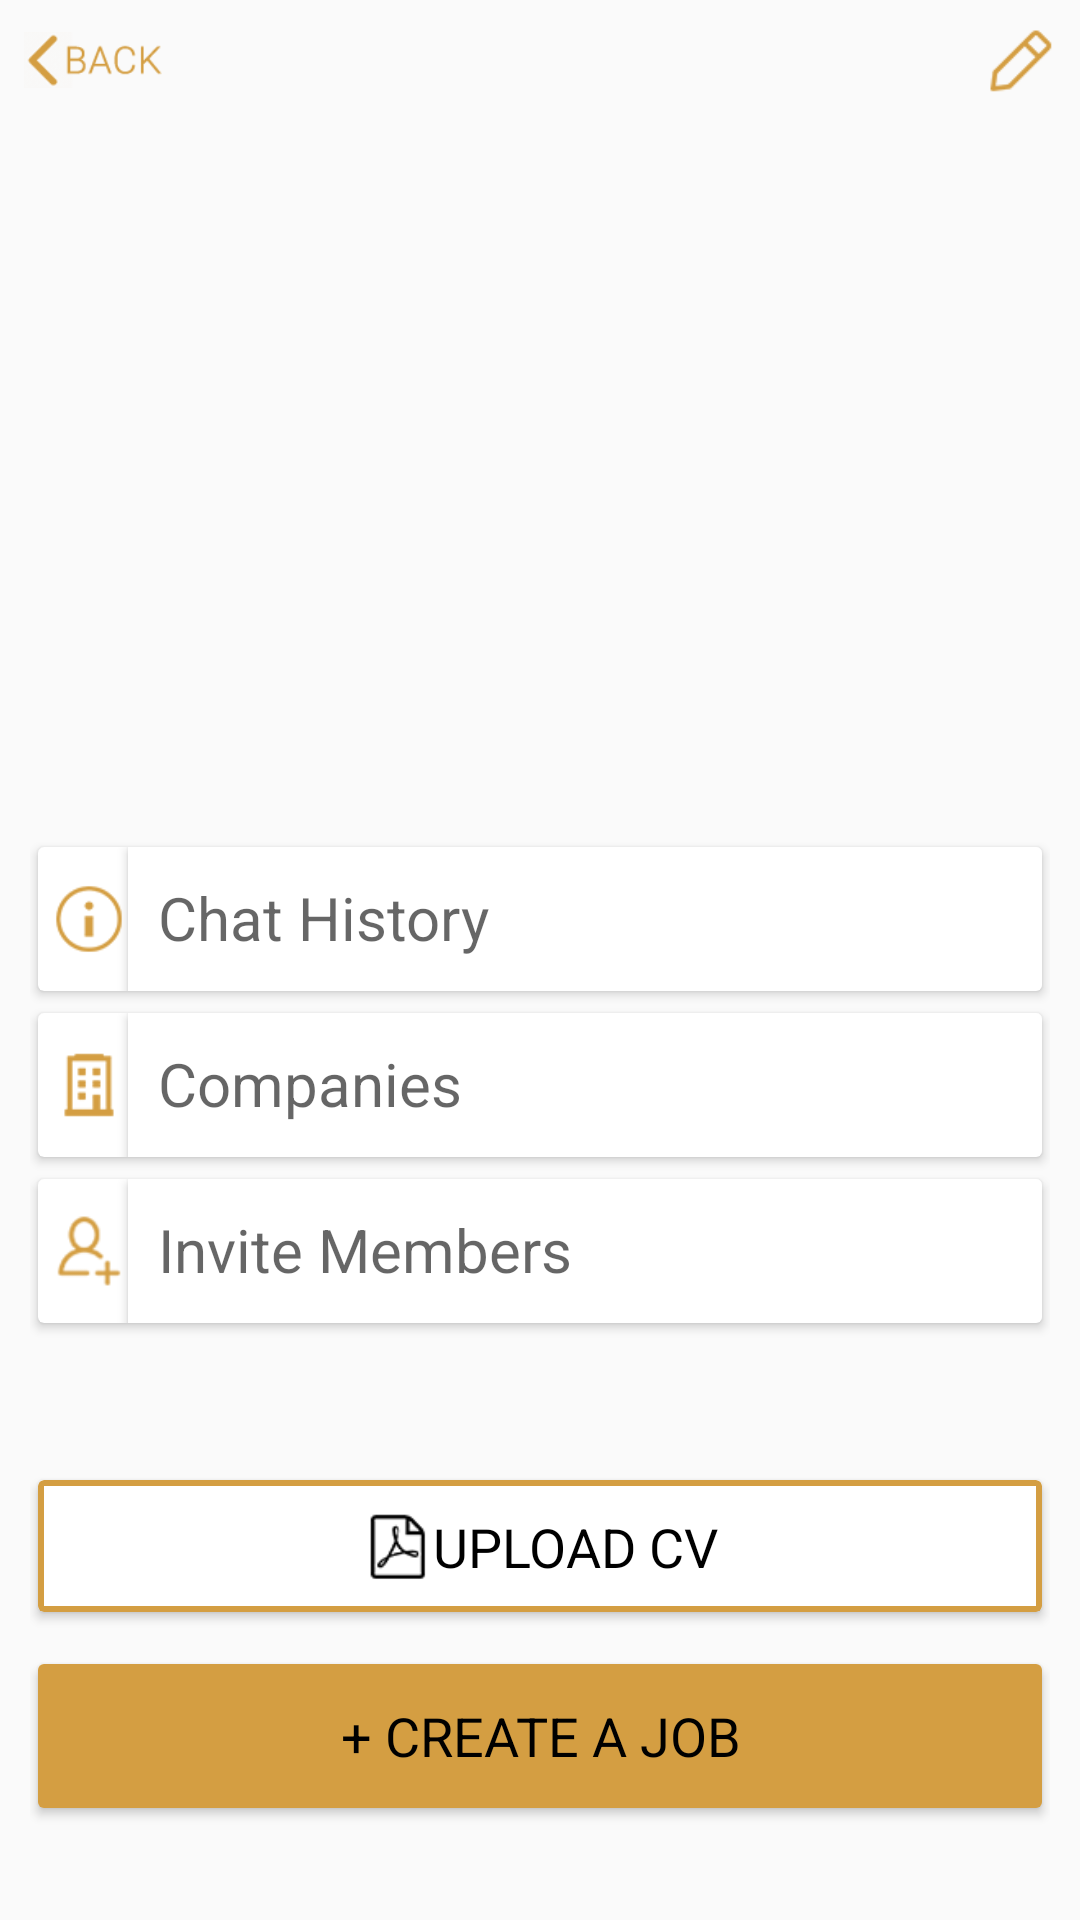

Screen size 1080w x 1920h. Icon name, then its box in pixels as (x1, y1, x2, y2):
company: (64, 1053, 114, 1117)
edit: (990, 30, 1052, 92)
info: (56, 886, 122, 952)
